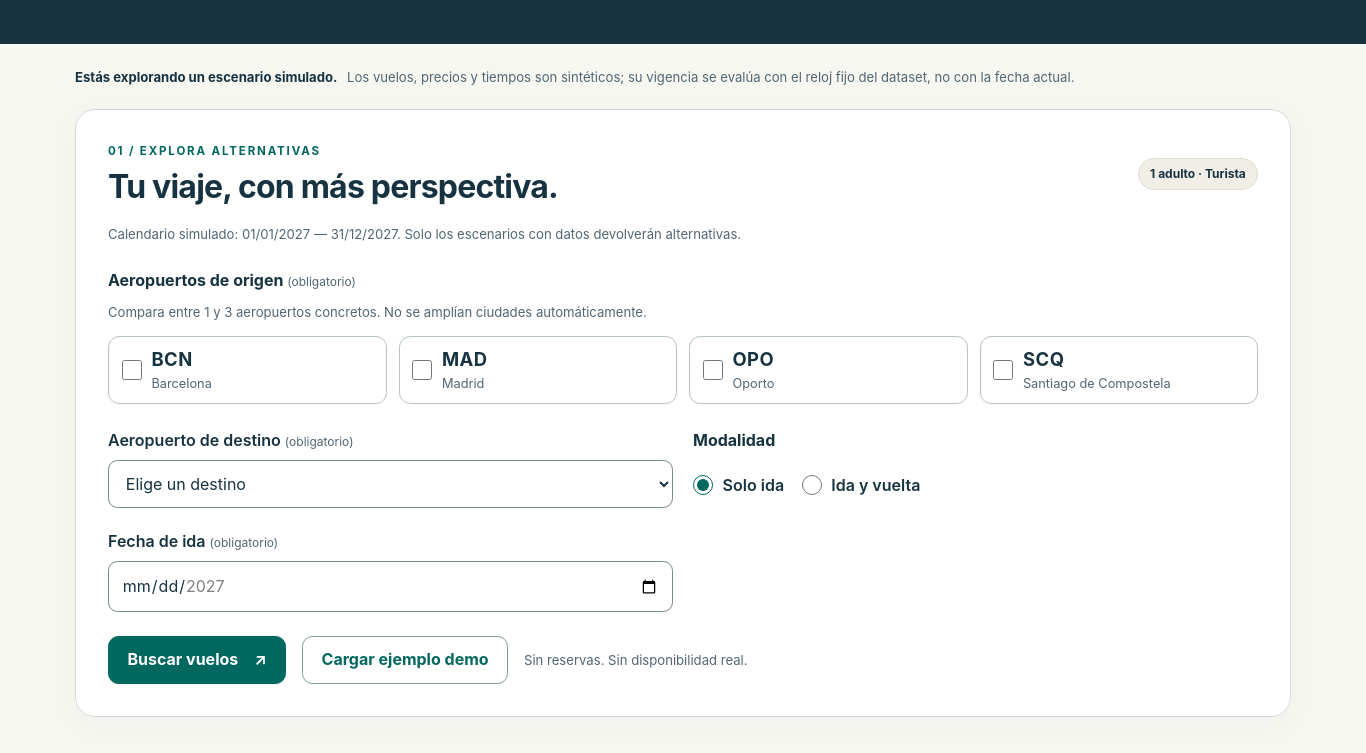
Scenario: experiencia Airwise demo › muestra resultado parcial y conserva los datos recibidos
(page scrolled)
Click the checkbox labelled "OPO Oporto". click: (713, 370)
box: [703,360,723,380]
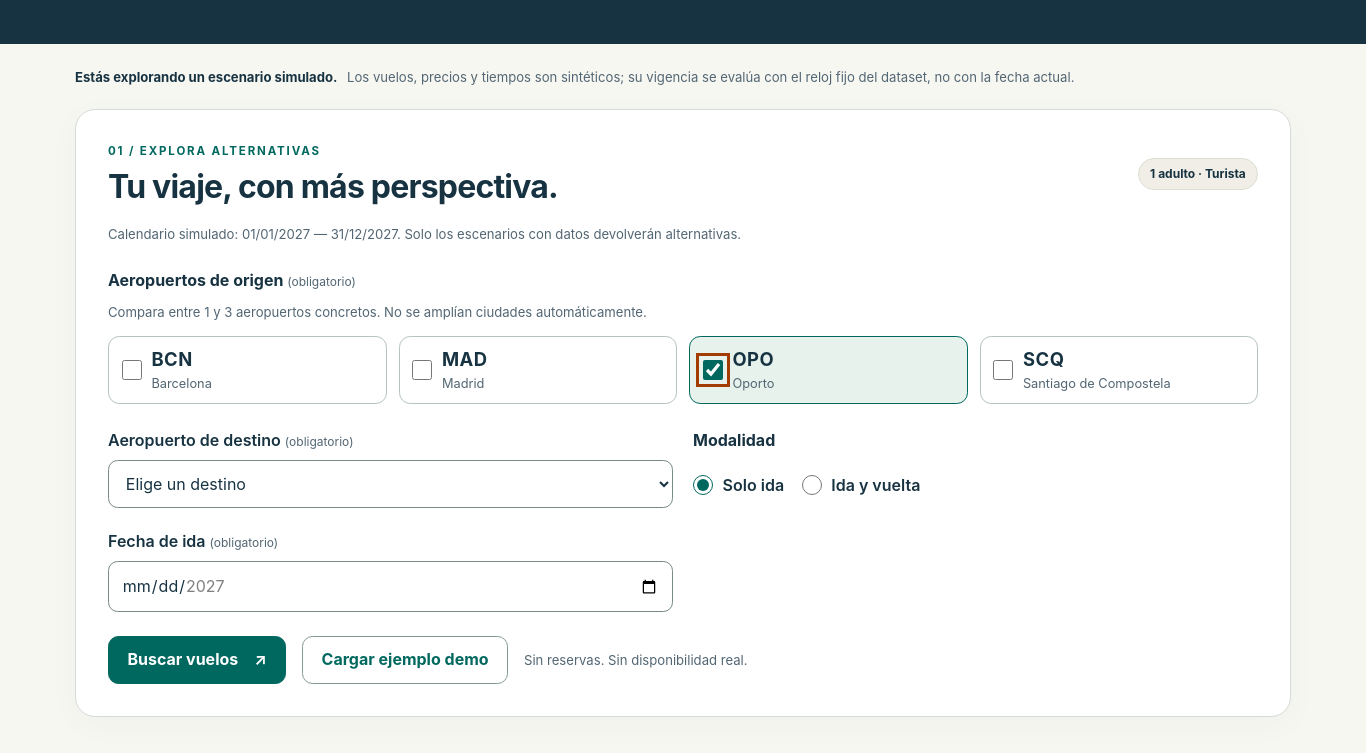
Select "MAD · Madrid" in the dropdown labelled "Aeropuerto de destino (obligatorio)". click: (390, 484)
box: [108,460,673,508]
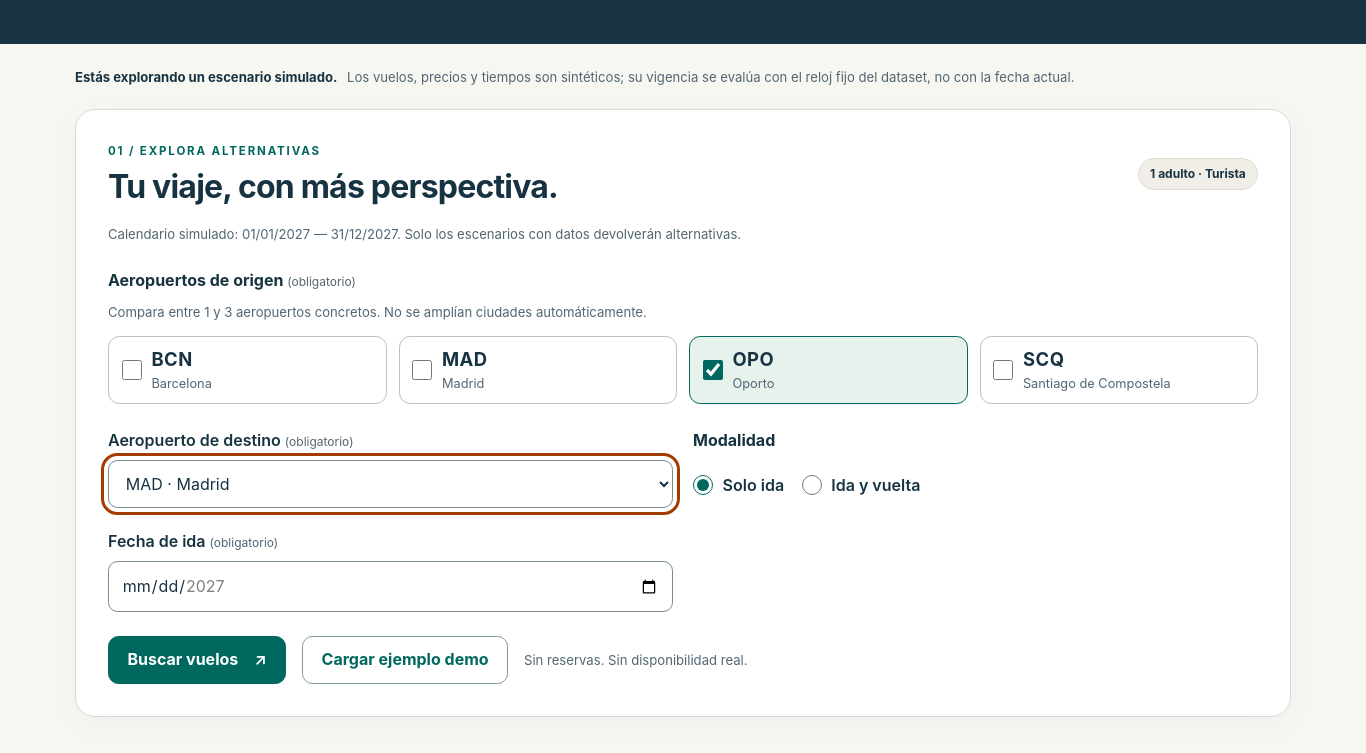
Click the radio button labelled "Solo ida". click: (703, 485)
box: [693,475,713,495]
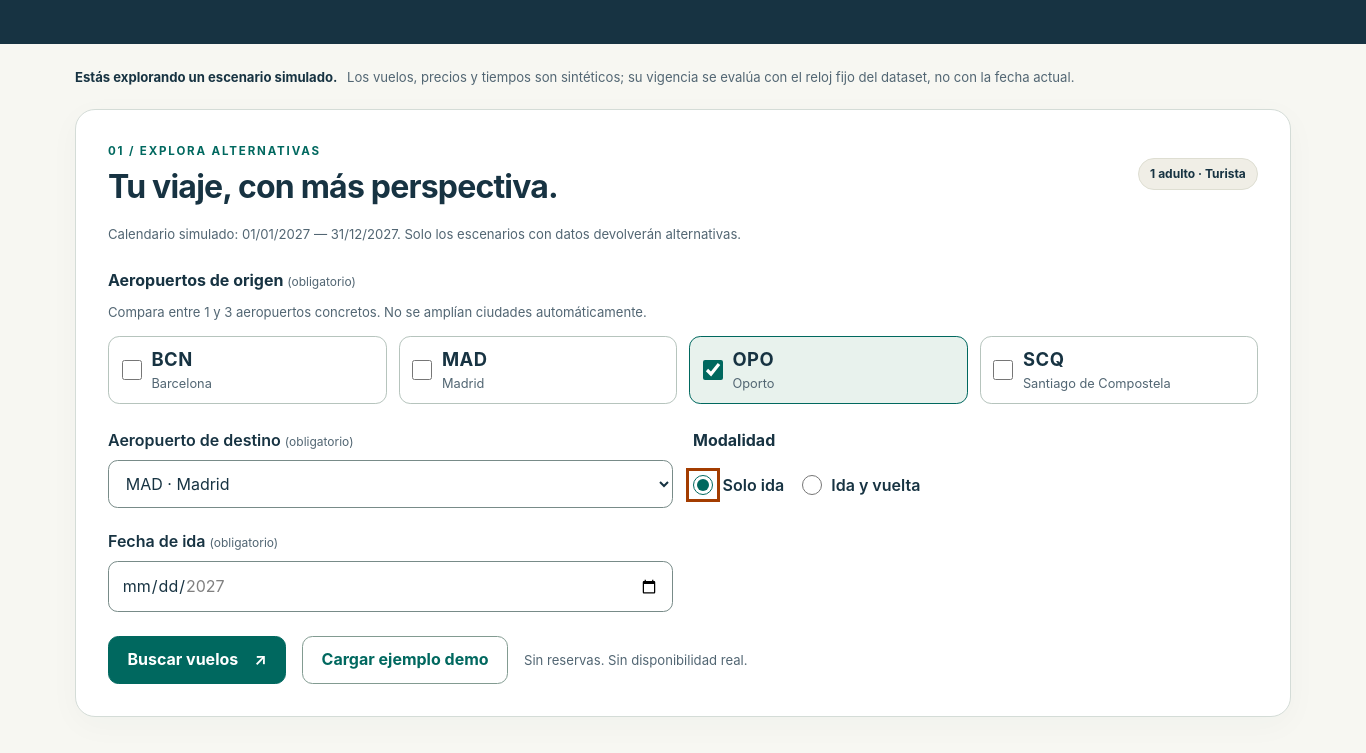
Type "2027-02-10" into the date field labelled "Fecha de ida (obligatorio)". click: (390, 586)
box: [108,561,673,612]
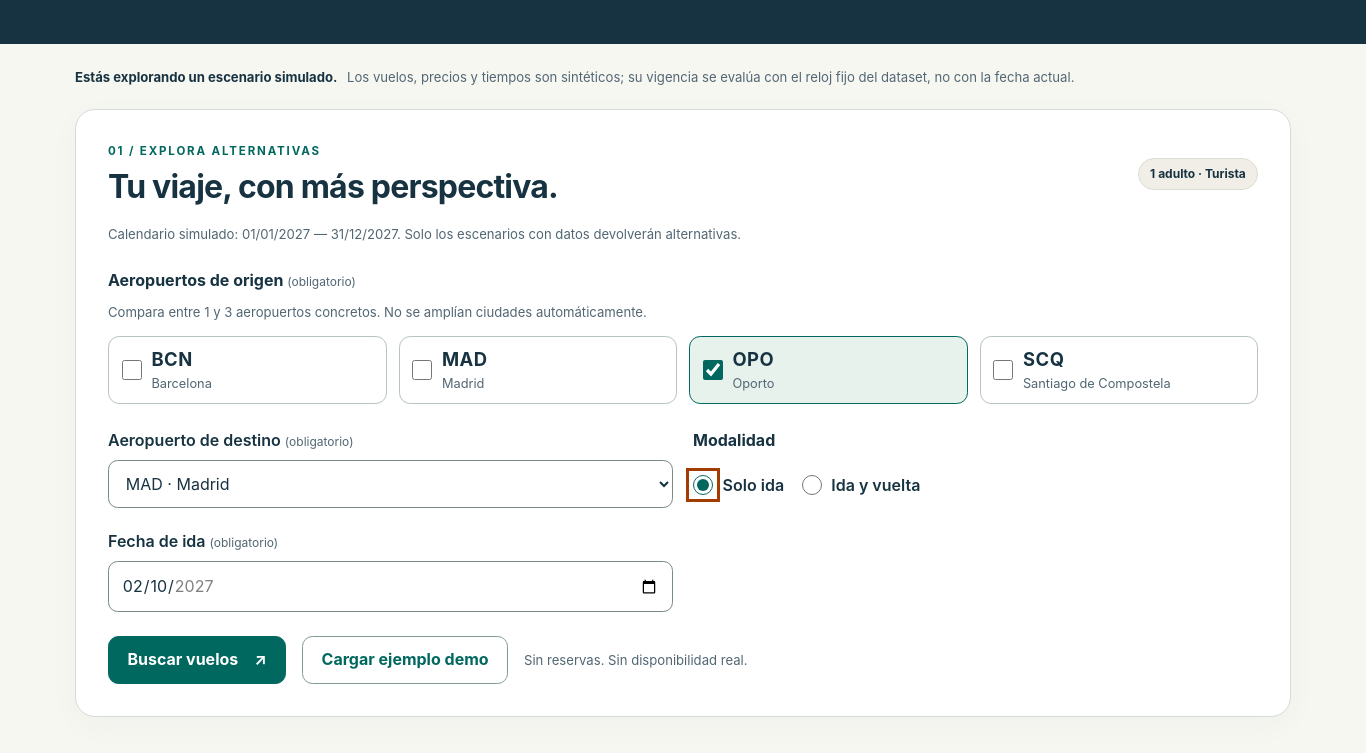
Click the button "Buscar vuelos ↗". click: (197, 660)
box: [108,636,286,684]
(page scrolled)
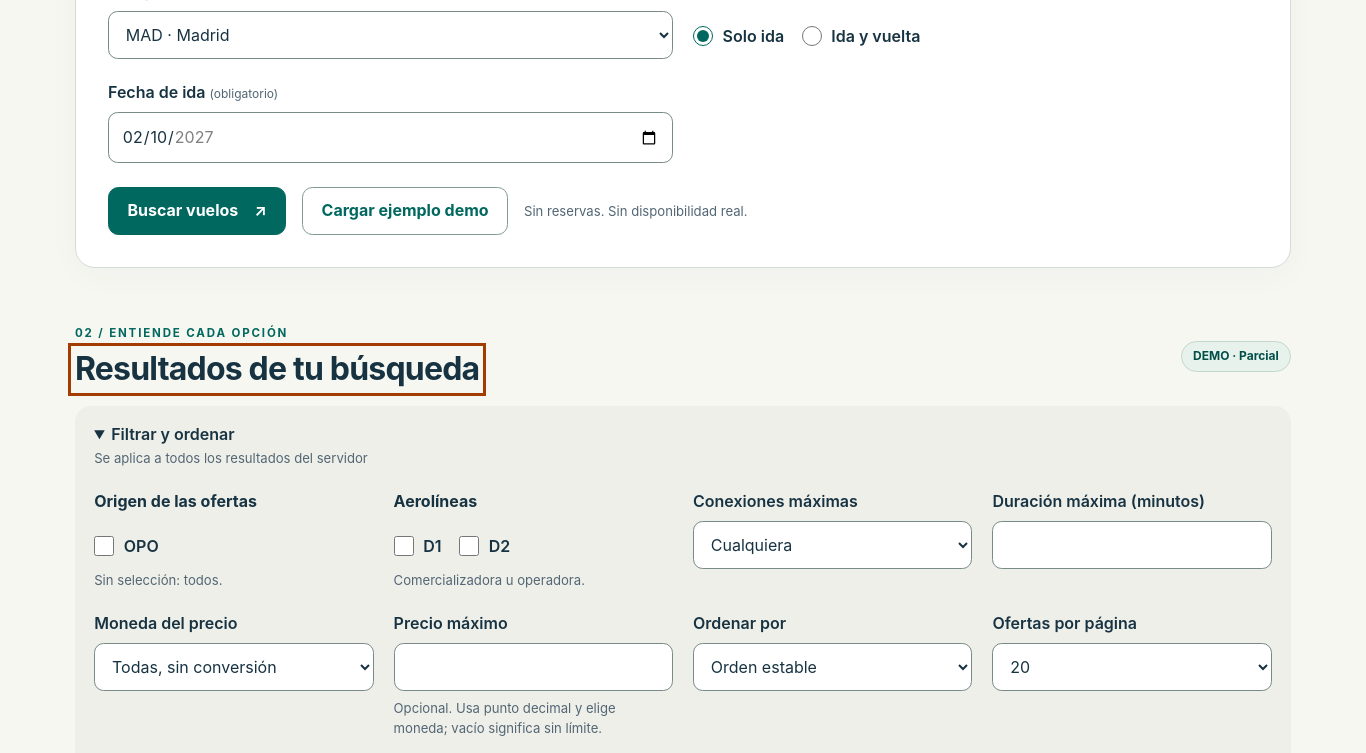
Expected: the text "DEMO · Parcial" is shown, [1181,340,1291,372]
